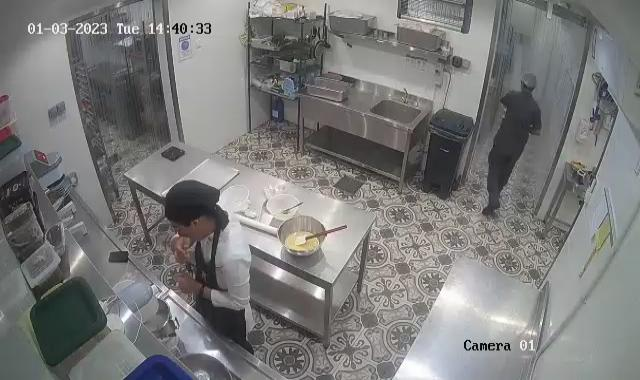hairnet: (519, 70, 539, 92)
no_hairnet: (164, 179, 221, 229)
